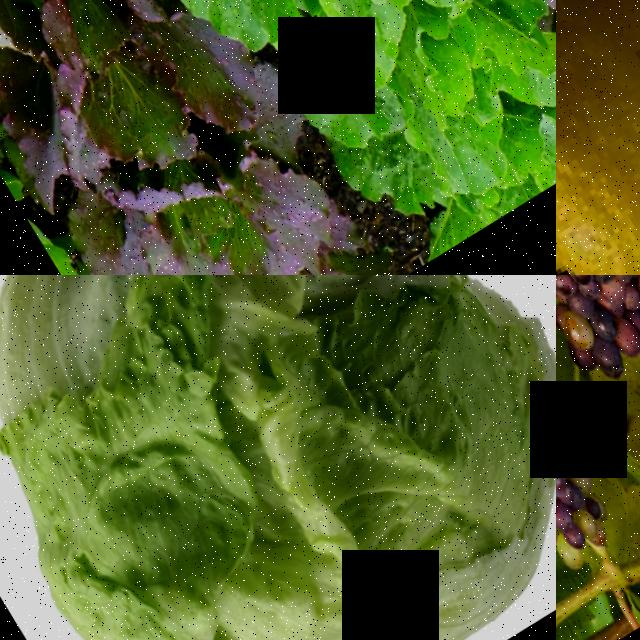grapes: (556, 275, 624, 601), (556, 275, 640, 388)
lemon: (556, 0, 640, 275)
lettuce: (0, 275, 556, 640), (287, 0, 556, 275), (69, 0, 556, 148)
